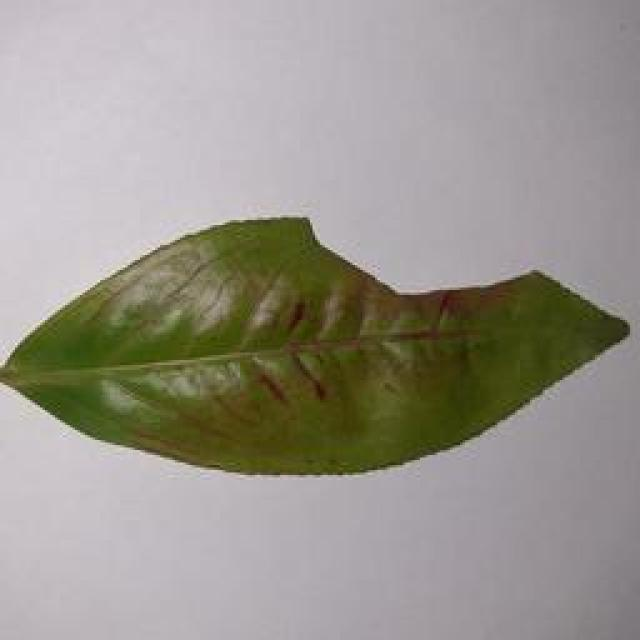Red Leaf Spot: (0, 196, 638, 483)
